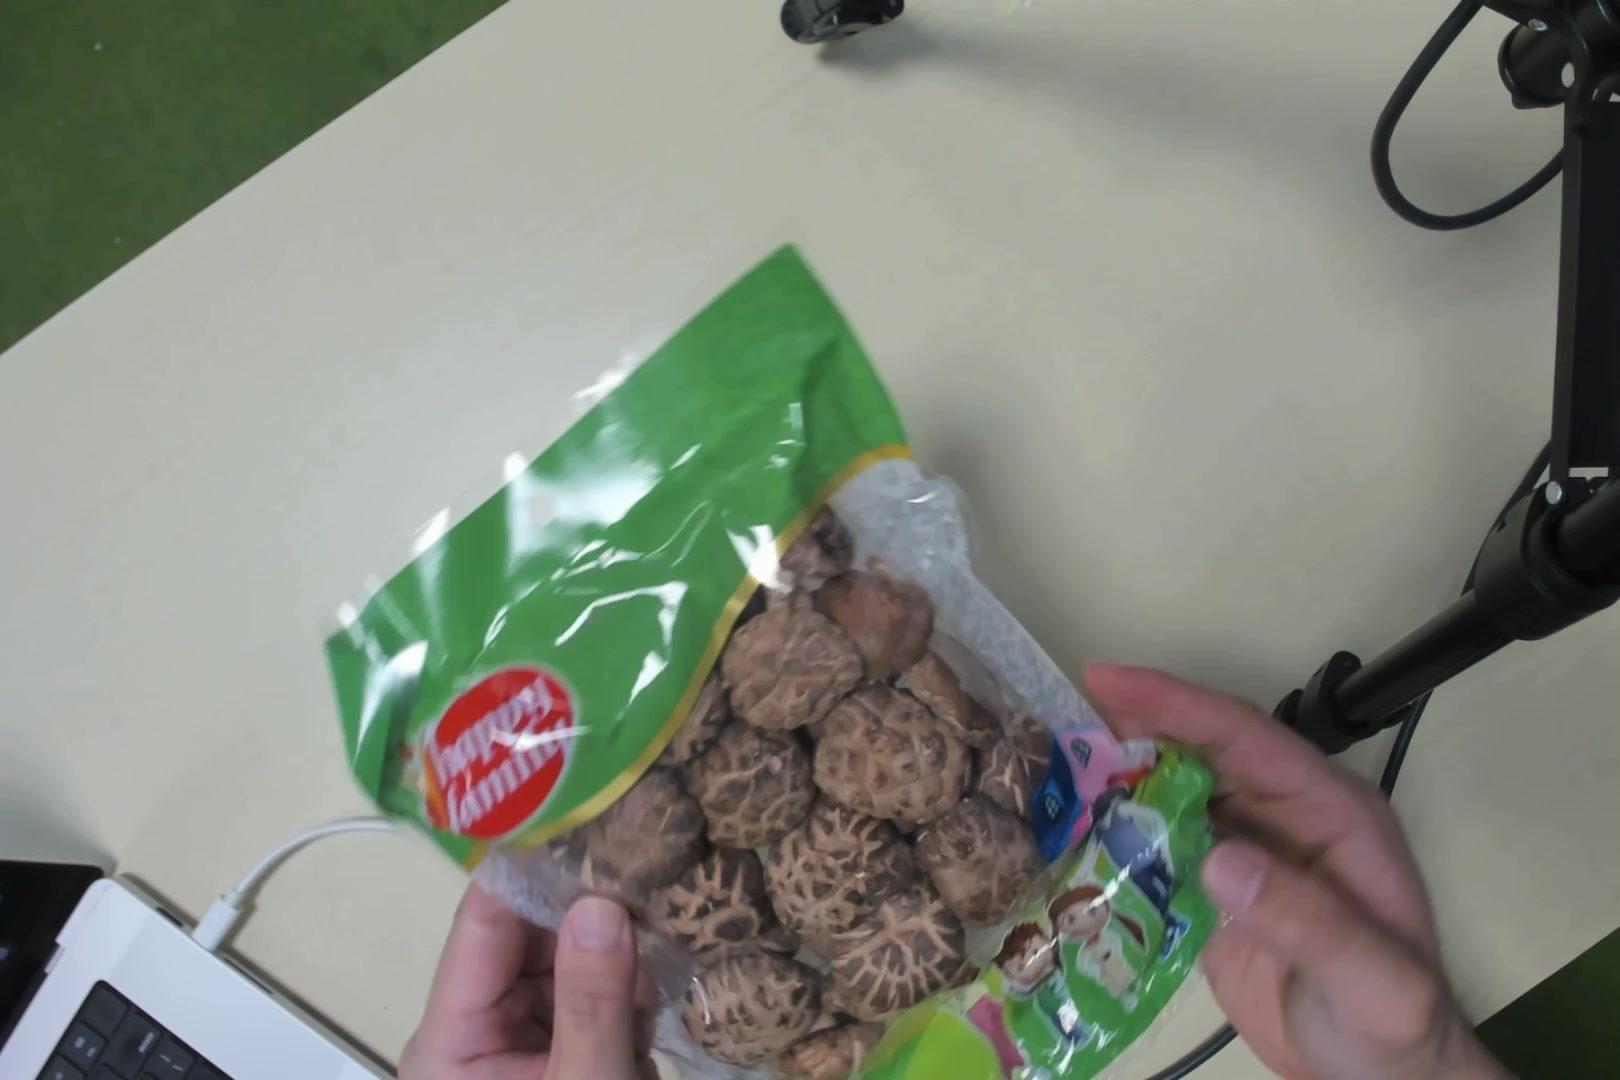OtherDriedFood_100-199g_NonHalal_NonHealthy: (468, 370, 1179, 1037)
